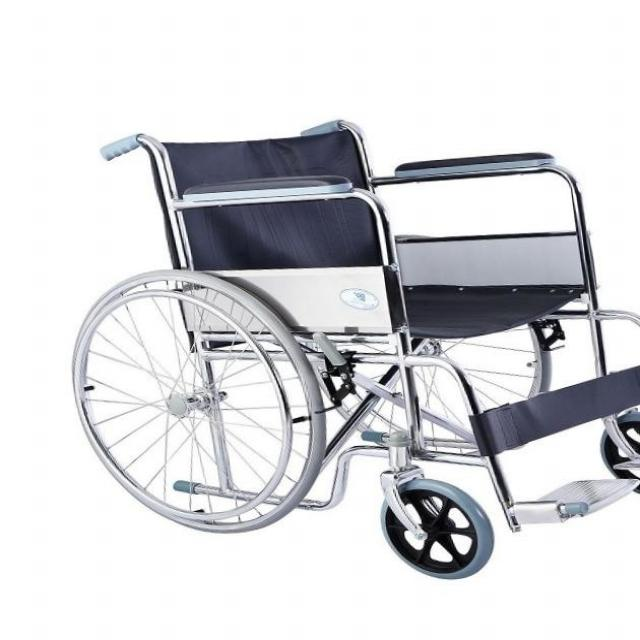wheelchair: (51, 112, 640, 582)
